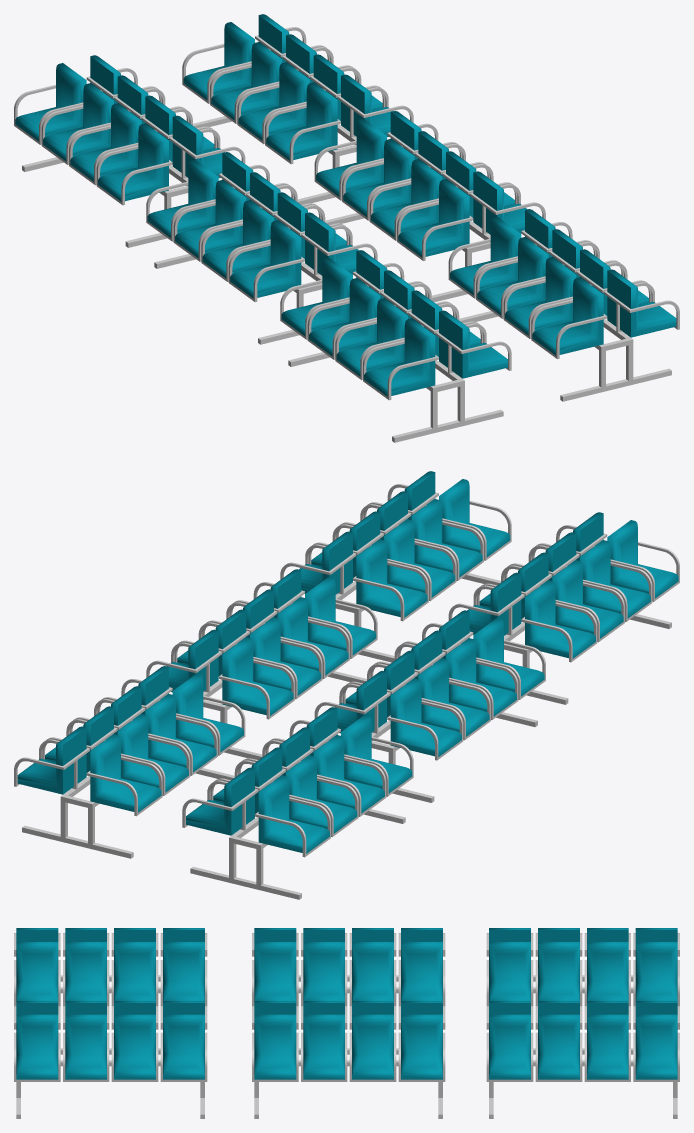
Rendered from SittingArea.glb.
3 renders of one model, top to bottom at view 1: azimuth 30°, elevation 25°; view 2: azimuth 150°, elevation 25°; view 3: azimuth 270°, elevation 25°, orthographic. The views are drawn at different scales.
Parts seen in each view (by area): view 1: Material3.003, Material3.009, Material3.029, Material3.005, Material3.007, Material3.001, Material3.004, Material3.010, Material3.002, Material3.030, Material3.008, Material3.006; view 2: Material3.001, Material3.007, Material3.009, Material3.003, Material3.005, Material3.029, Material3.002, Material3.008, Material3.004, Material3.030, Material3.010, Material3.006; view 3: Material3.005, Material3.007, Material3.009, Material3.001, Material3.003, Material3.029, Material3.006, Material3.008, Material3.010, Material3.002, Material3.004, Material3.030.
Part boxes in pixels (left/top/right/bottom): Material3.003: left=281, top=250, right=507, bottom=396; Material3.009: left=450, top=209, right=676, bottom=355; Material3.029: left=147, top=152, right=358, bottom=298; Material3.005: left=316, top=111, right=527, bottom=257; Material3.007: left=183, top=14, right=393, bottom=160; Material3.001: left=15, top=55, right=224, bottom=201; Material3.004: left=280, top=263, right=511, bottom=442; Material3.010: left=448, top=222, right=679, bottom=401; Material3.002: left=14, top=68, right=245, bottom=247; Material3.030: left=146, top=165, right=377, bottom=344; Material3.008: left=182, top=27, right=413, bottom=204; Material3.006: left=314, top=123, right=545, bottom=302; Material3.001: left=186, top=707, right=412, bottom=853; Material3.007: left=17, top=666, right=243, bottom=812; Material3.009: left=299, top=471, right=510, bottom=617; Material3.003: left=467, top=512, right=678, bottom=658; Material3.005: left=166, top=569, right=376, bottom=715; Material3.029: left=335, top=610, right=544, bottom=756; Material3.002: left=182, top=720, right=413, bottom=899; Material3.008: left=14, top=679, right=245, bottom=858; Material3.004: left=448, top=525, right=679, bottom=704; Material3.030: left=314, top=623, right=545, bottom=802; Material3.010: left=280, top=484, right=511, bottom=662; Material3.006: left=146, top=582, right=377, bottom=759; Material3.005: left=254, top=1001, right=442, bottom=1079; Material3.007: left=489, top=1001, right=677, bottom=1079; Material3.009: left=16, top=1001, right=204, bottom=1079; Material3.001: left=489, top=928, right=677, bottom=1000; Material3.003: left=16, top=928, right=204, bottom=1000; Material3.029: left=254, top=928, right=442, bottom=1000; Material3.006: left=252, top=1006, right=445, bottom=1118; Material3.008: left=486, top=1006, right=679, bottom=1118; Material3.010: left=14, top=1006, right=207, bottom=1118; Material3.002: left=486, top=933, right=679, bottom=1005; Material3.004: left=14, top=933, right=207, bottom=1005; Material3.030: left=252, top=933, right=445, bottom=1005.
Bounding box in the file's own units: 128 × 41 × 286.
